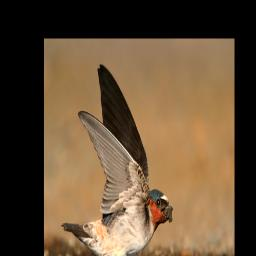Swallow: (60, 63, 174, 256)
